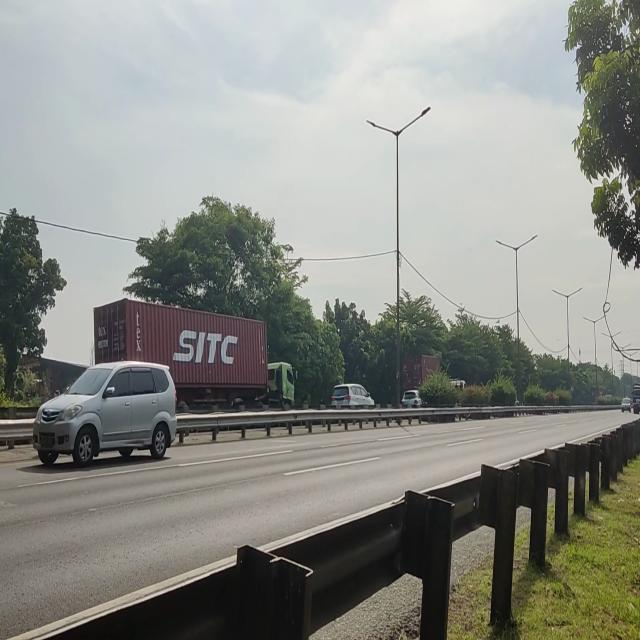Golongan I: (29, 350, 187, 476)
